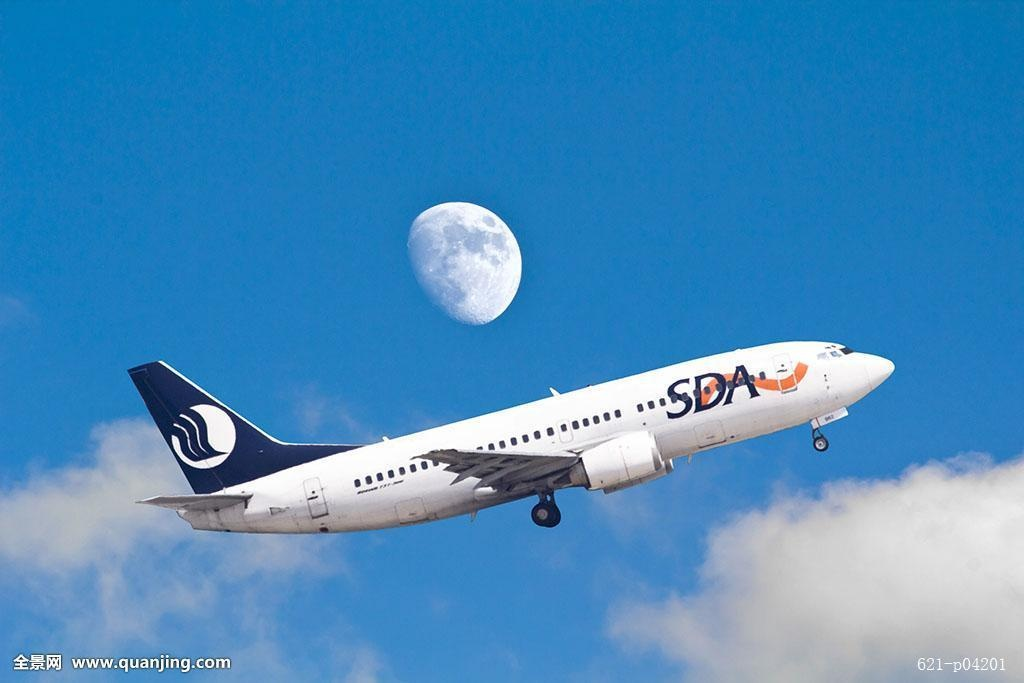airplane: (112, 291, 898, 565)
